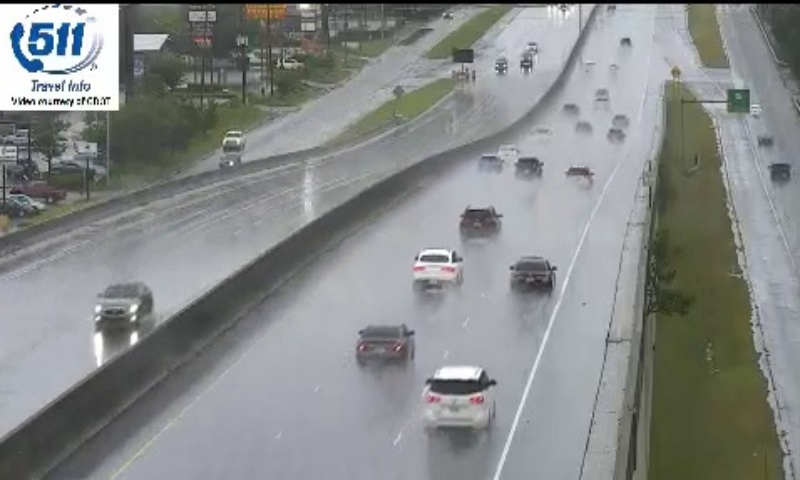car: (421, 365, 493, 428), (354, 323, 415, 361), (415, 249, 461, 289), (510, 257, 555, 291), (460, 207, 498, 238), (515, 156, 543, 179), (564, 165, 592, 188)
